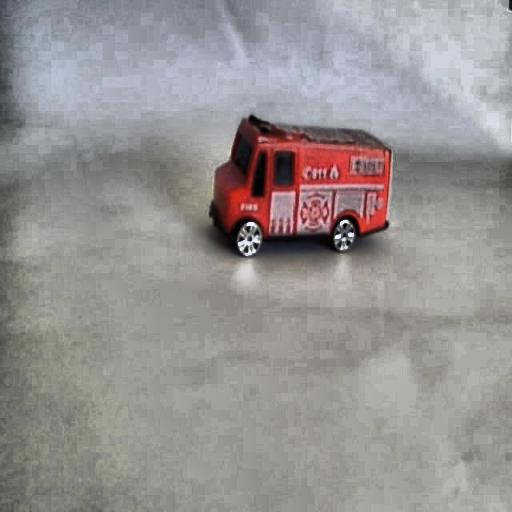fire_truck: (205, 116, 396, 270)
